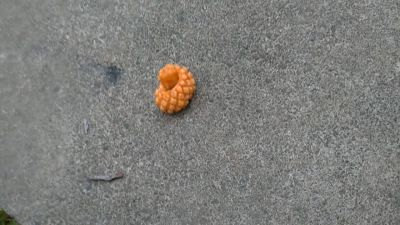eggs: (153, 62, 197, 117)
